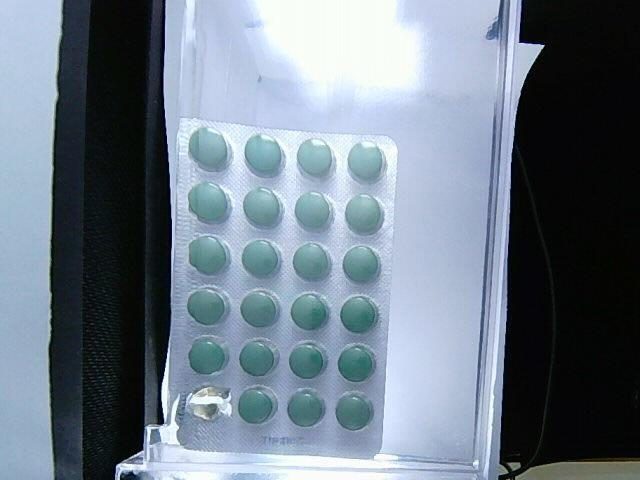Light Front: (162, 119, 397, 461)
No Pill Front: (186, 386, 231, 421)
Pill Front: (189, 126, 232, 170), (245, 134, 285, 177), (189, 183, 230, 223), (244, 188, 284, 228), (295, 139, 335, 178), (294, 191, 334, 230), (345, 194, 383, 234), (189, 236, 229, 274), (348, 143, 385, 182), (290, 293, 330, 329), (188, 289, 229, 324), (340, 295, 377, 332), (293, 244, 331, 280), (343, 245, 380, 281), (241, 290, 278, 326), (338, 345, 375, 381), (288, 390, 325, 426), (240, 340, 278, 375), (243, 241, 280, 276), (290, 343, 325, 379), (189, 339, 225, 374), (336, 394, 372, 429), (239, 389, 272, 423)
